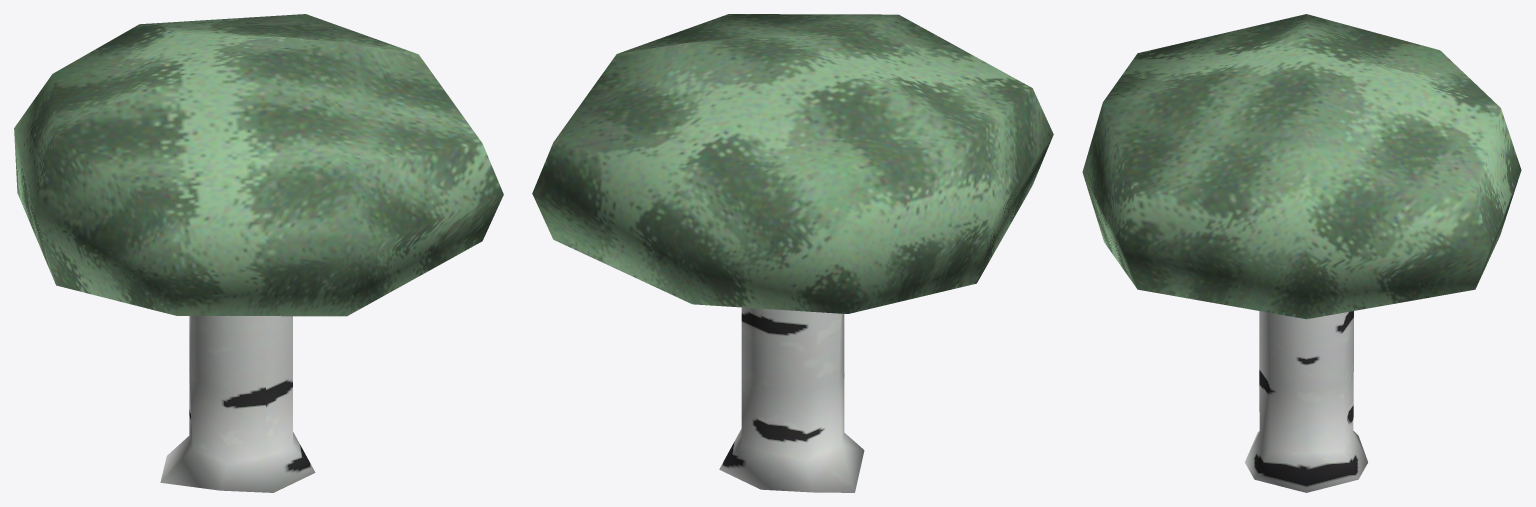
Rendered from tree_temperate01.glb.
The picture shows the model from 3 angles, left to right: view 1: azimuth 30°, elevation 25°; view 2: azimuth 150°, elevation 25°; view 3: azimuth 270°, elevation 25°; orthographic projection. The views are drawn at different scales.
Visible parts, largest first — view 1: Cube; view 2: Cube; view 3: Cube.
Boxes of the visible parts, box(x1,y1,x2,y2) form: Cube: box(14, 14, 503, 492); Cube: box(532, 14, 1053, 492); Cube: box(1082, 14, 1521, 492).
Size of the model in its own units: 6.1 by 6.28 by 6.05.
Materials: 1 (1 with a texture image).
